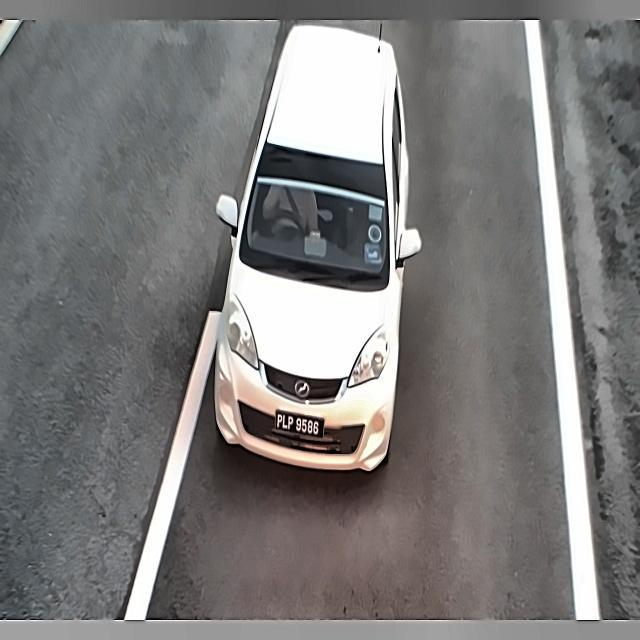car: (264, 408, 327, 444)
